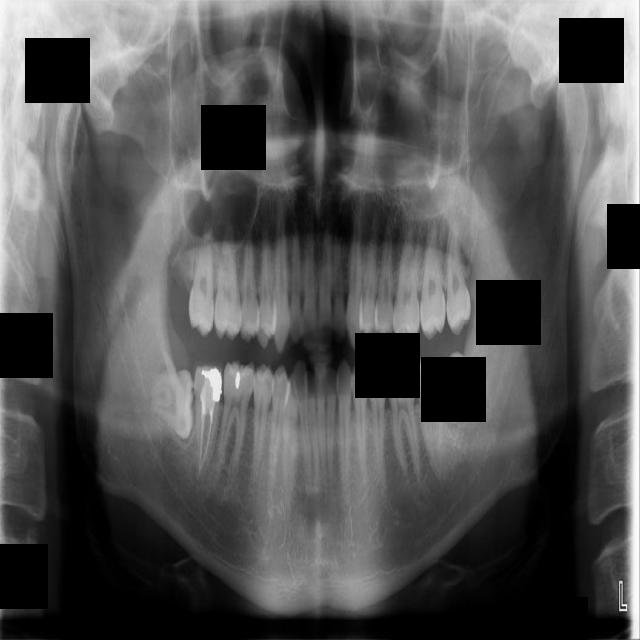52: (222, 360, 257, 404), (192, 361, 225, 401)
73: (591, 587, 605, 611)
BioHorizons Implant: (419, 217, 447, 341)
BioLife Implant: (439, 218, 474, 338)
Biomet 3i Implant: (440, 350, 491, 428)
Blue Sky Bio Implant: (410, 357, 448, 478)
Caries: (187, 217, 218, 339)
Implant: (194, 362, 223, 480)
Keystone Dental Implant: (150, 368, 196, 442)
